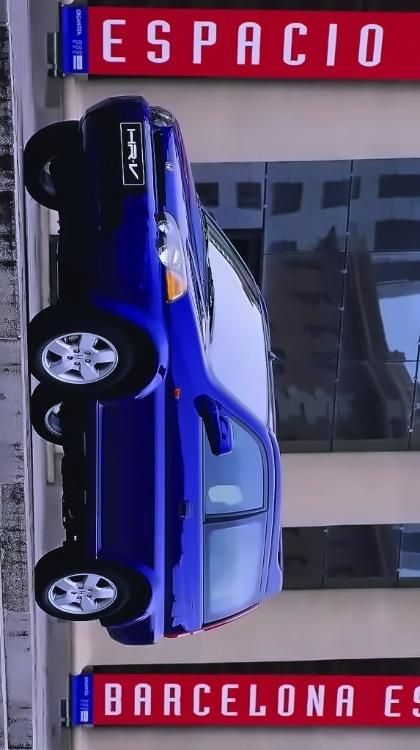Car hood: (153, 118, 210, 336)
Fender - -F-L-: (73, 305, 216, 408)
Fender - -R-L-: (79, 552, 212, 638)
Front bumper: (69, 91, 161, 337)
Headlight - -L-: (152, 208, 193, 310)
Headlight - -R-: (143, 98, 185, 133)
Passenger-s door - -F-L-: (101, 398, 290, 523)
Rear bumper: (93, 609, 171, 650)
Rear light - -L-: (160, 597, 266, 646)
Side bumper - -L-: (80, 392, 109, 566)
Side mirror - -L-: (201, 407, 237, 462)
